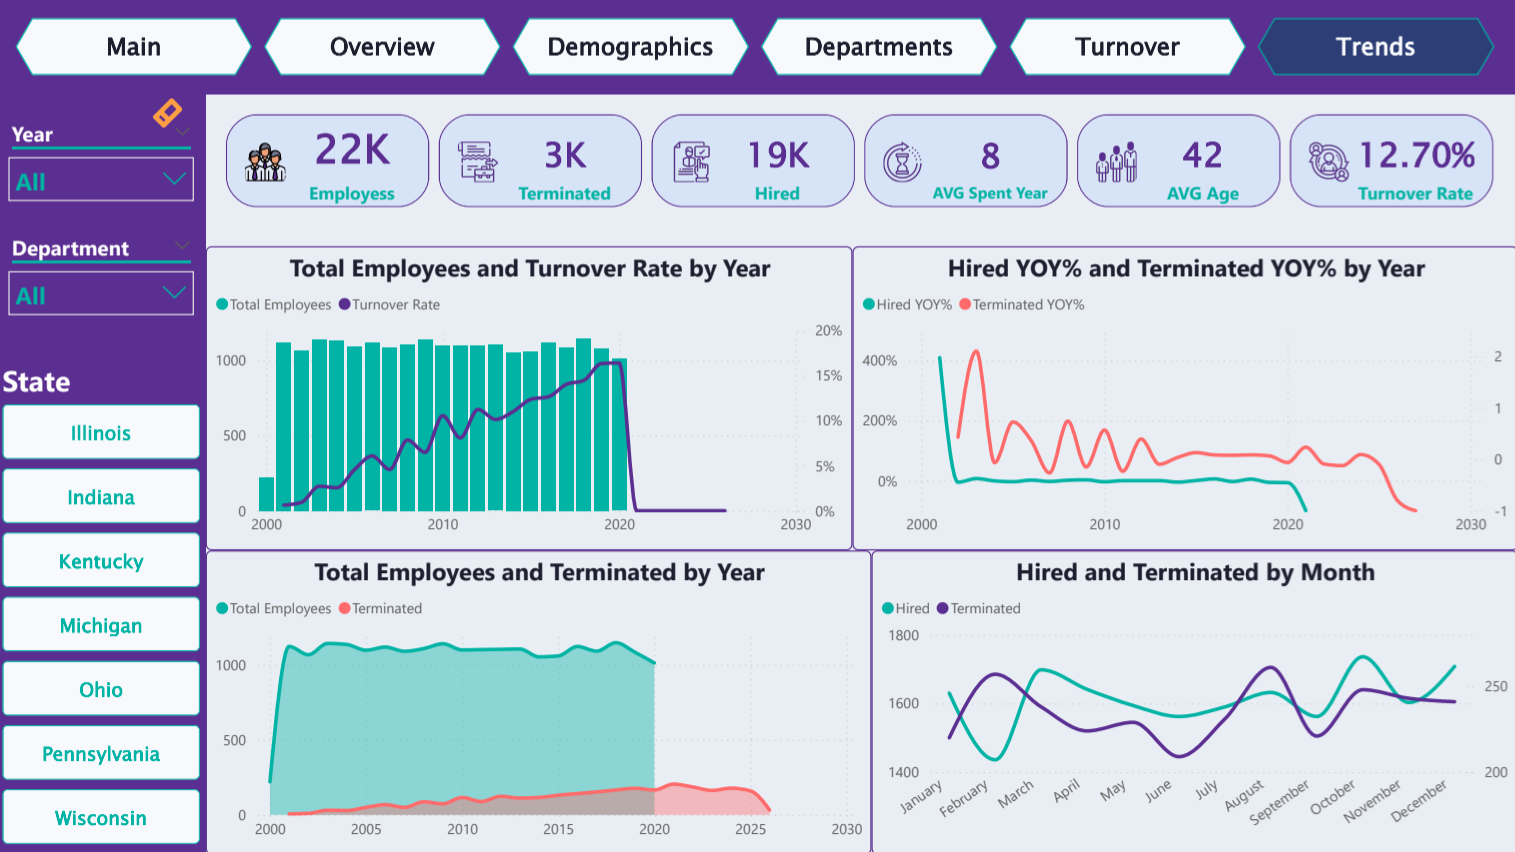

The dashboard page shown, as its layout file describes it:
{"tool":"powerbi","page":{"name":"Trends","canvas":[1280,720],"ordinal":5},"visuals":[{"type":"group","id":"g1","title":"Group 1","box":[0,0,1280,80],"z":0},{"type":"shape","box":[0,0,1280,80],"z":0,"group":"g1"},{"type":"pageNavigator","box":[16,16,1248,48],"z":1000,"group":"g1"},{"type":"group","id":"g2","title":"Group 3","box":[0,80,176,640],"z":1000},{"type":"areaChart","fields":{"Category":["calender_table.Year"],"Y":["_Measures.Total_Emp","_Measures.Total_Term_R"]},"box":[176,464,560,256],"z":2000},{"type":"cardVisual","fields":{"Data":["_Measures.Total_Emp","_Measures.Total_Term","_Measures.Total_Hire","_Measures.AVG_Spend_Year","_Measures.AVG_Age","_Measures.Turnover Rate"]},"box":[176,80,1104,112],"z":3000},{"type":"lineChart","fields":{"Y2":["_Measures.Total_Term_R"],"Y":["_Measures.Total_Hire"],"Category":["calender_table.Month Name"]},"box":[736,464,544,256],"z":4000},{"type":"shape","box":[0,80,176,640],"z":5000,"group":"g2"},{"type":"lineChart","fields":{"Category":["calender_table.Year"],"Y2":["_Measures.YOY%_Term"],"Y":["_Measures.YOY%_Hire"]},"box":[720,208,560,256],"z":5000},{"type":"lineClusteredColumnComboChart","fields":{"Category":["calender_table.Year"],"Y":["_Measures.Total_Emp"],"Y2":["_Measures.Turnover Rate"]},"box":[176,208,544,256],"z":5001},{"type":"group","id":"g3","title":"Group 2","box":[0,96,176,624],"z":6000,"group":"g2"},{"type":"slicer","fields":{"Values":["calender_table.Year"]},"box":[0,96,176,96],"z":8000,"group":"g3"},{"type":"actionButton","box":[128,80,48,32],"z":8001,"group":"g2"},{"type":"slicer","fields":{"Values":["Human Resources.department"]},"box":[0,192,176,96],"z":9000,"group":"g3"},{"type":"advancedSlicerVisual","title":"State","fields":{"Values":["Human Resources.location_state"]},"box":[0,304,176,416],"z":10000,"group":"g3"}]}

Visuals, with their boxes in screenshot pixels (x1, y1, x2, y2), scaled from the page's 1280x720 canvas onto the 1515x852 screenshot:
"Group 1" group: 0,0,1514,95
shape: 0,0,1514,95
pageNavigator: 19,19,1496,76
"Group 3" group: 0,95,208,851
areaChart - calender_table.Year x _Measures.Total_Emp: 208,549,871,851
cardVisual - _Measures.Total_Emp x _Measures.Total_Term: 208,95,1514,227
lineChart - _Measures.Total_Term_R x _Measures.Total_Hire: 871,549,1514,851
shape: 0,95,208,851
lineChart - calender_table.Year x _Measures.YOY%_Term: 852,246,1514,549
lineClusteredColumnComboChart - calender_table.Year x _Measures.Total_Emp: 208,246,852,549
"Group 2" group: 0,114,208,851
slicer - calender_table.Year: 0,114,208,227
actionButton: 152,95,208,133
slicer - Human Resources.department: 0,227,208,341
"State" advancedSlicerVisual: 0,360,208,851
